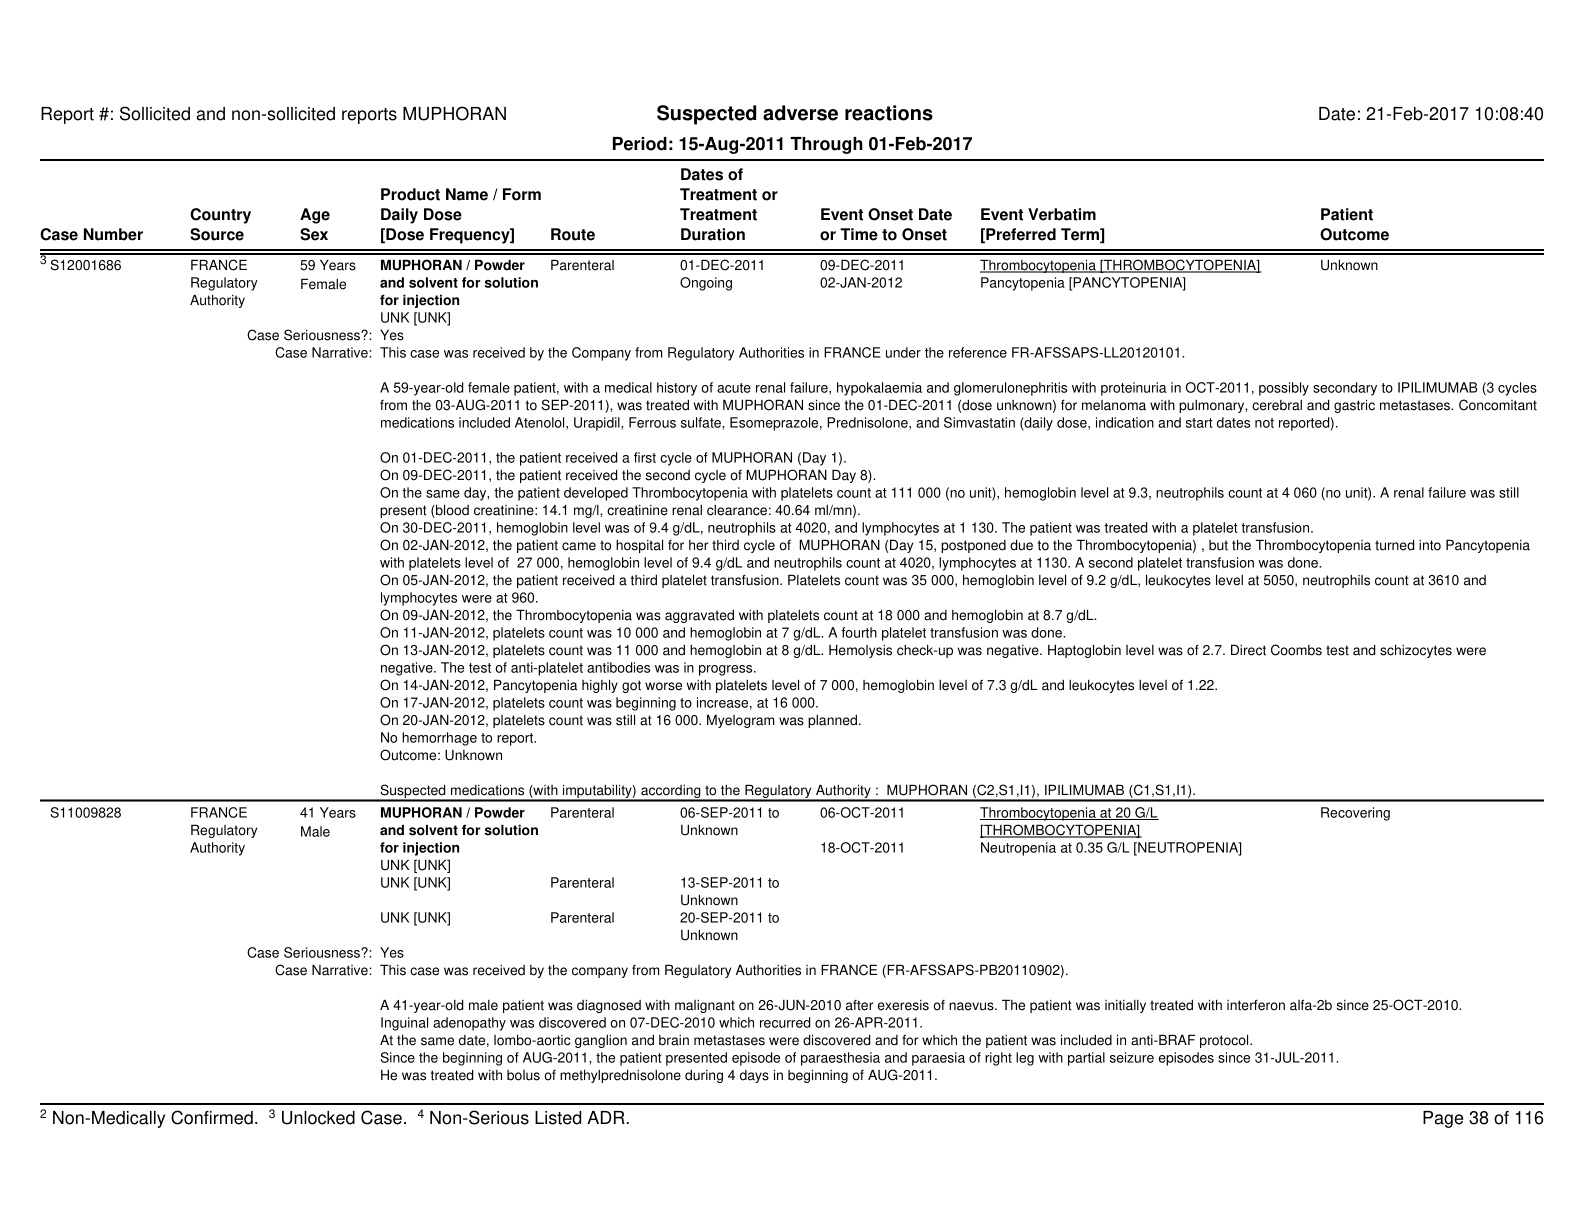partial_lined_merged_cells: (39, 157, 1545, 1088)
